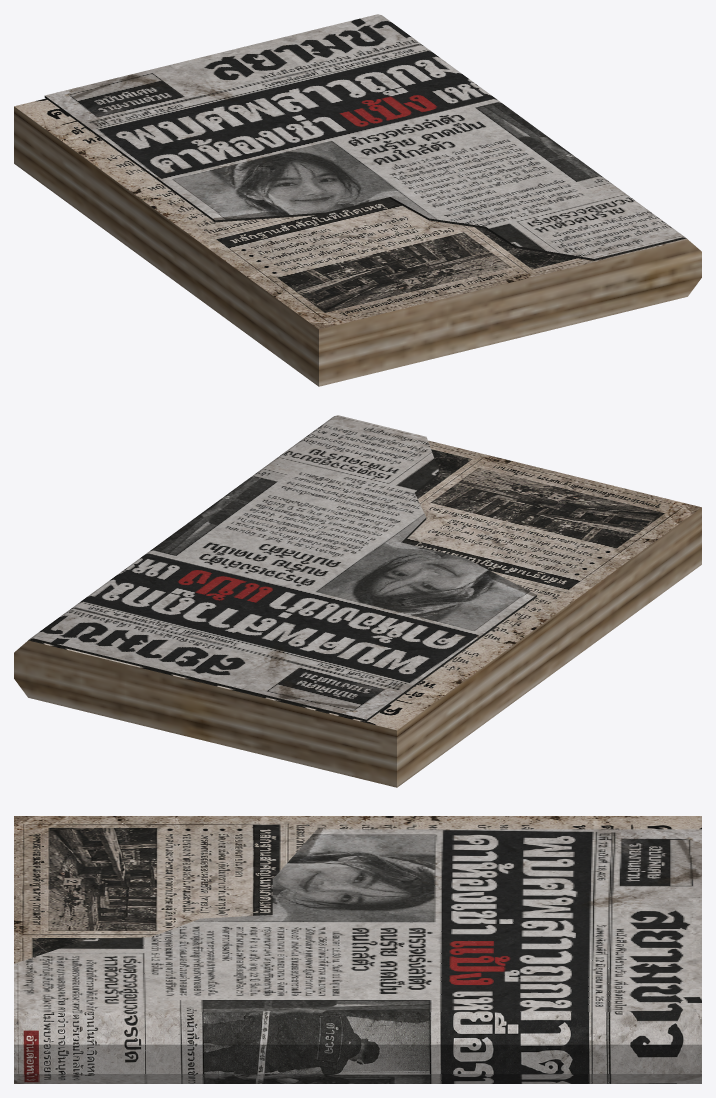
File: Newspaper.fbx
3 views of the same model, one above another, from view 1: azimuth 30°, elevation 25°; view 2: azimuth 150°, elevation 25°; view 3: azimuth 270°, elevation 25° (orthographic). The views are drawn at different scales.
Parts seen in each view (by area): view 1: Newspaper; view 2: Newspaper; view 3: Newspaper.
Part boxes in pixels (left/top/right/bottom): Newspaper: left=14, top=14, right=701, bottom=386; Newspaper: left=14, top=415, right=701, bottom=787; Newspaper: left=14, top=816, right=701, bottom=1083.
Size of the model in its own units: 56.59 by 8.56 by 78.
Materials: 3 (3 with a texture image).
